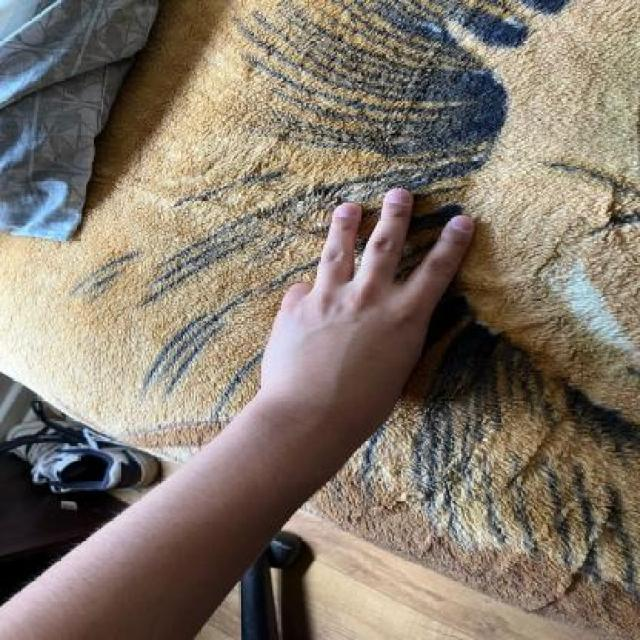W: (269, 178, 476, 432)
